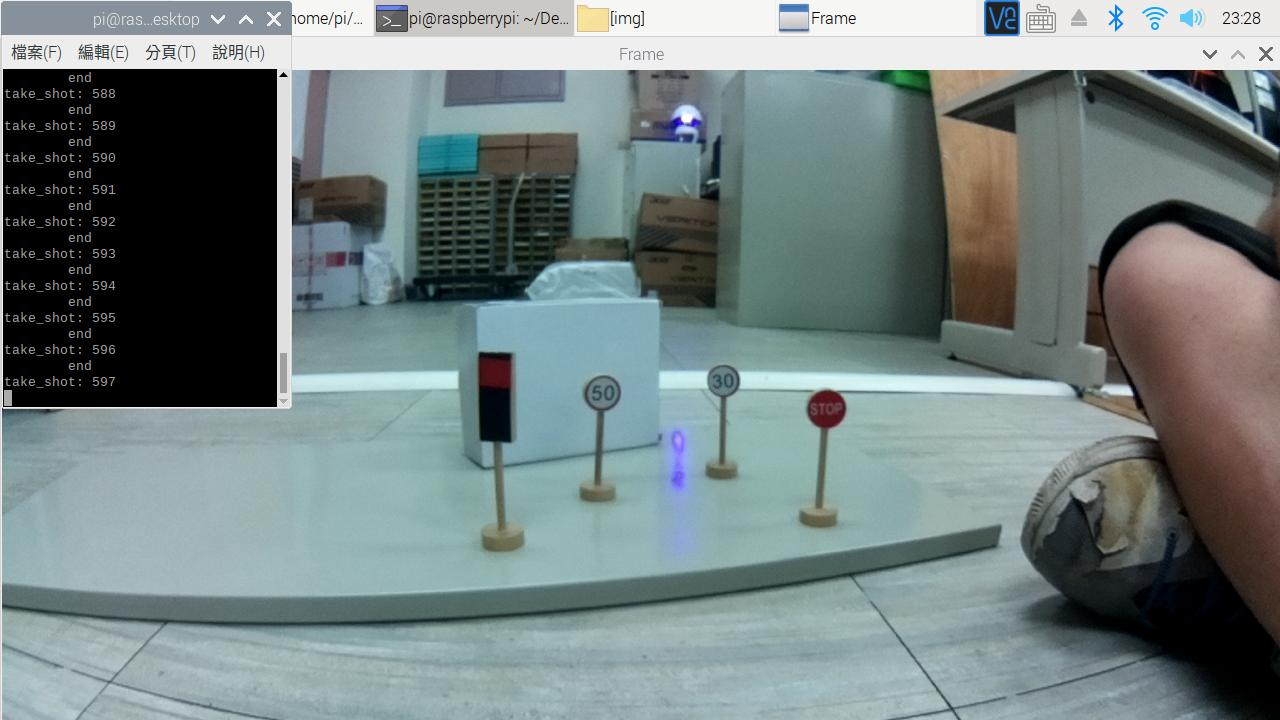Red: (470, 347, 525, 448)
Speed30: (701, 356, 750, 408)
Speed50: (585, 368, 624, 413)
Stop: (799, 383, 853, 438)
